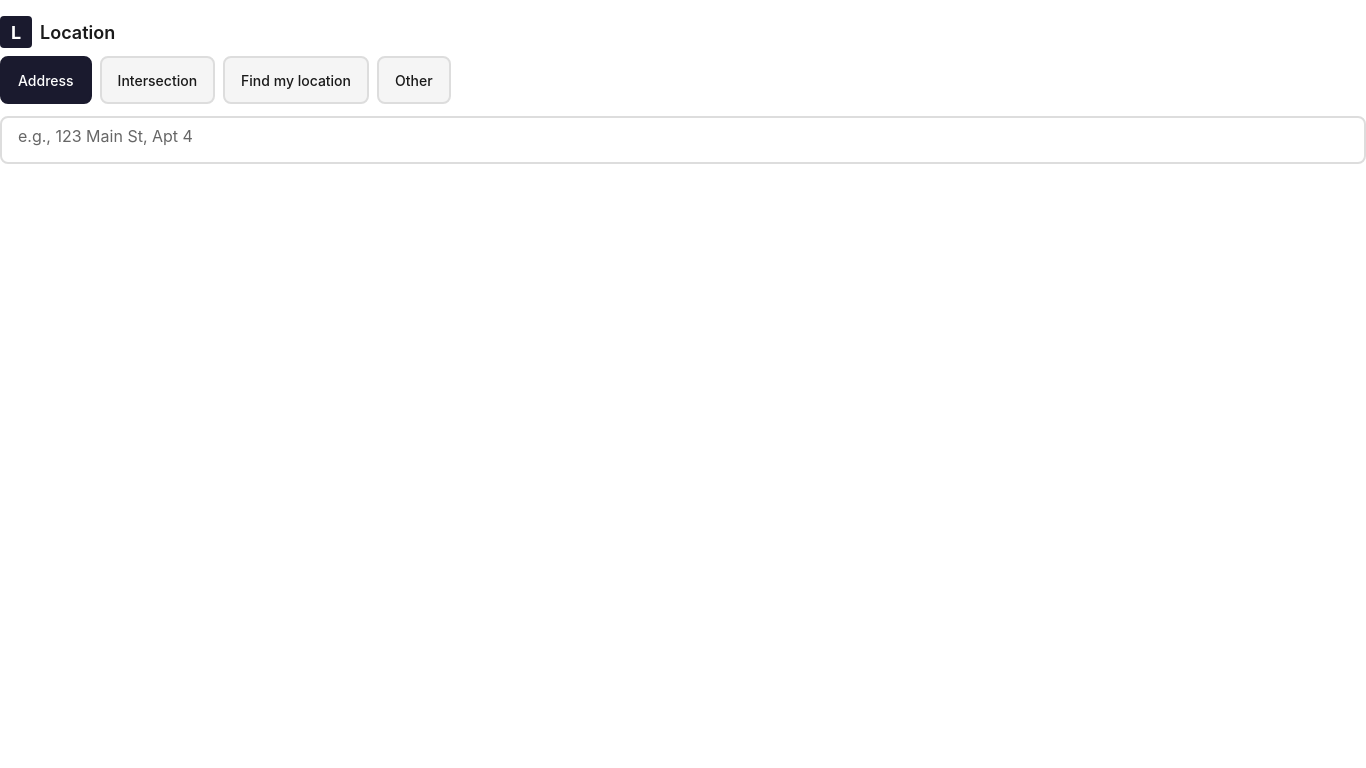
Scenario: LocationSection › GPS Mode - Error Handling › shows position unavailable error with help text
The image size is (1366, 768).
Click the button "Find my location": (296, 80) [223,56,369,104]
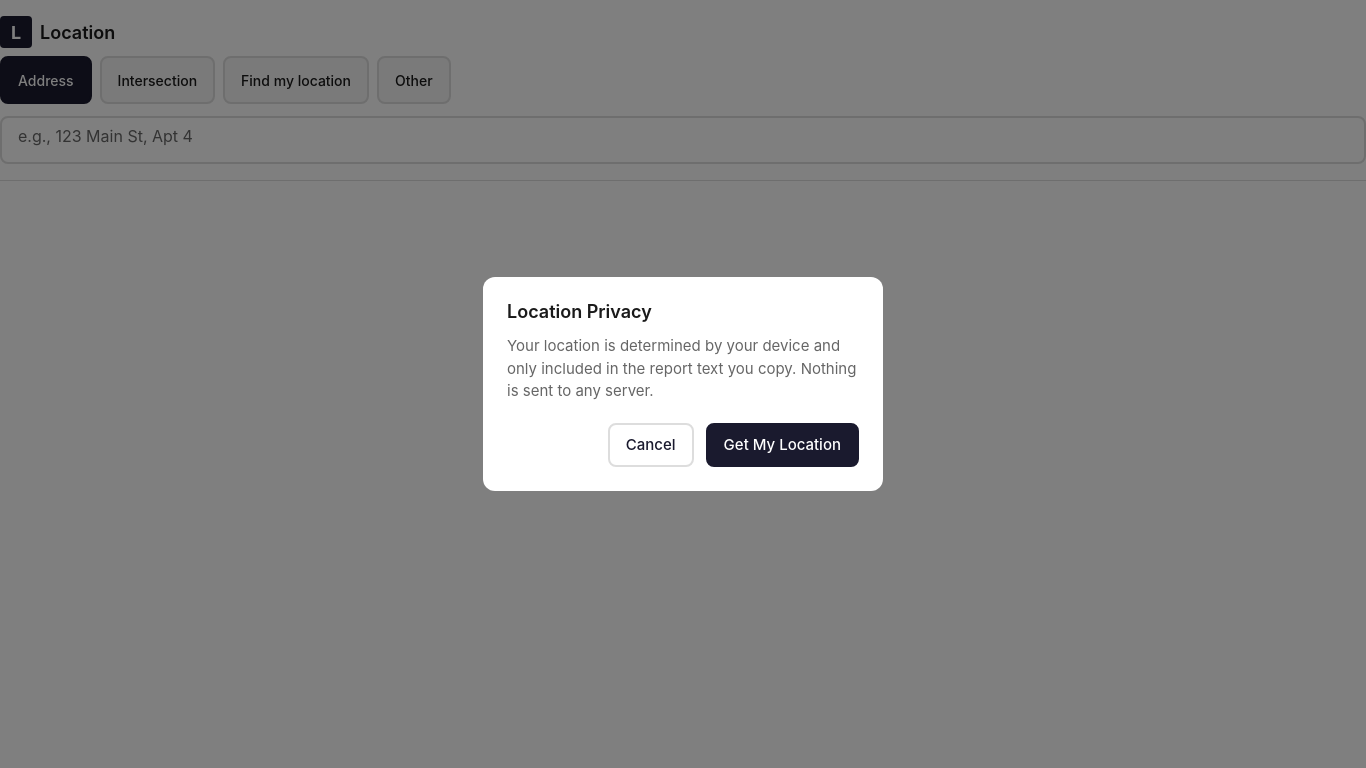
Click the button "Get My Location": (782, 444) [706,422,859,466]
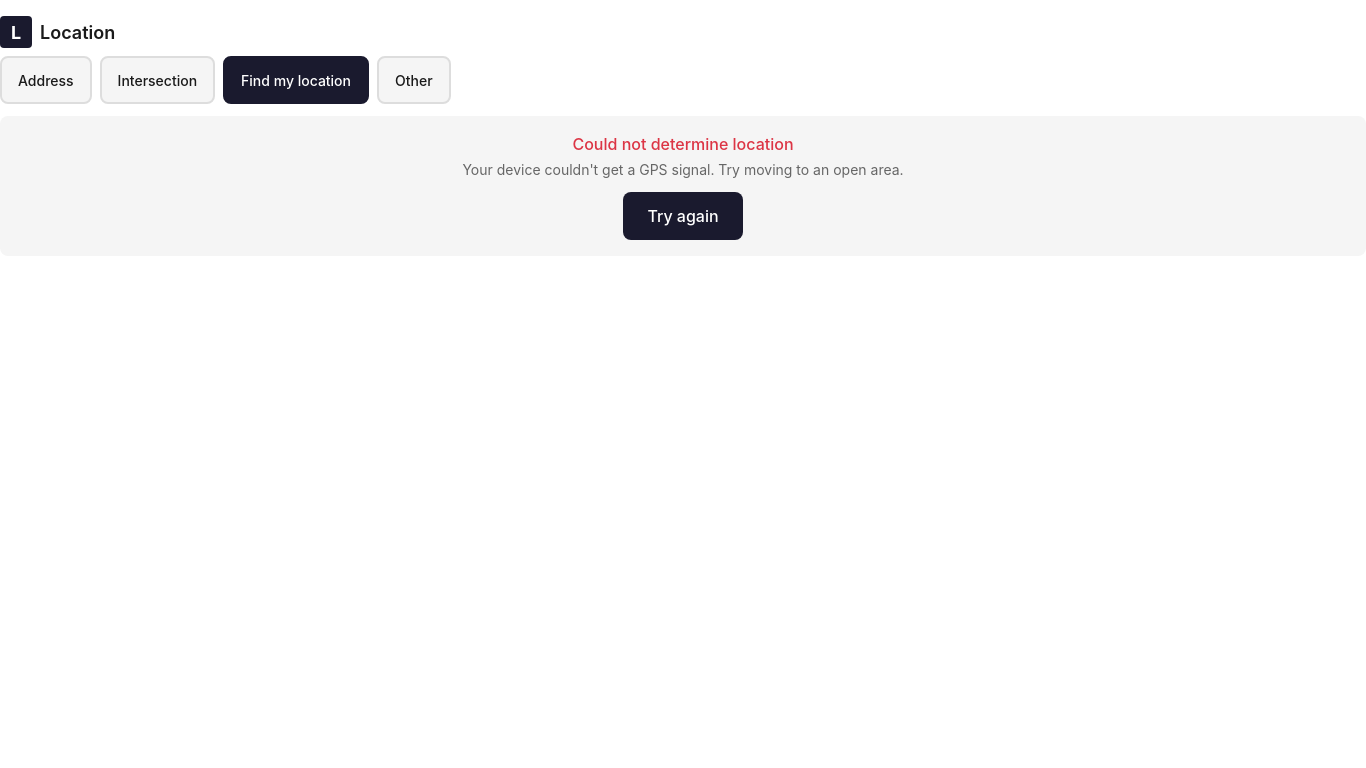
Expected: the text "Could not determine location" is shown, [572,134,794,154]
Expected: the text "GPS signal" is shown, [462,161,904,178]
